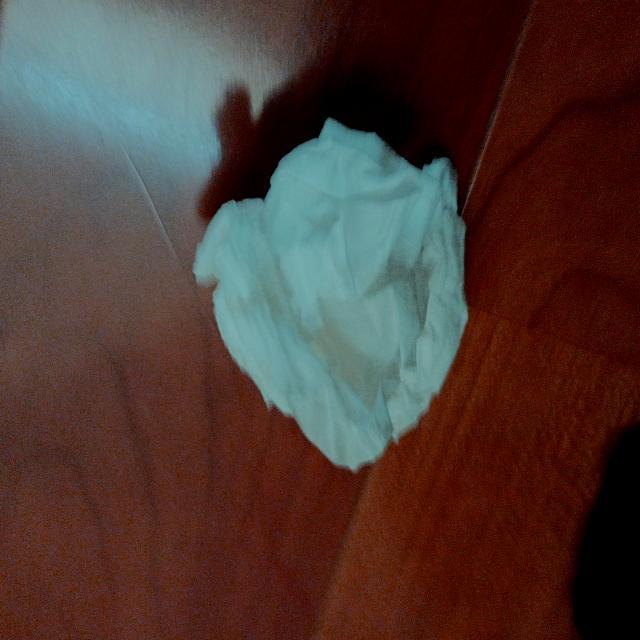Paper: (187, 117, 513, 480)
